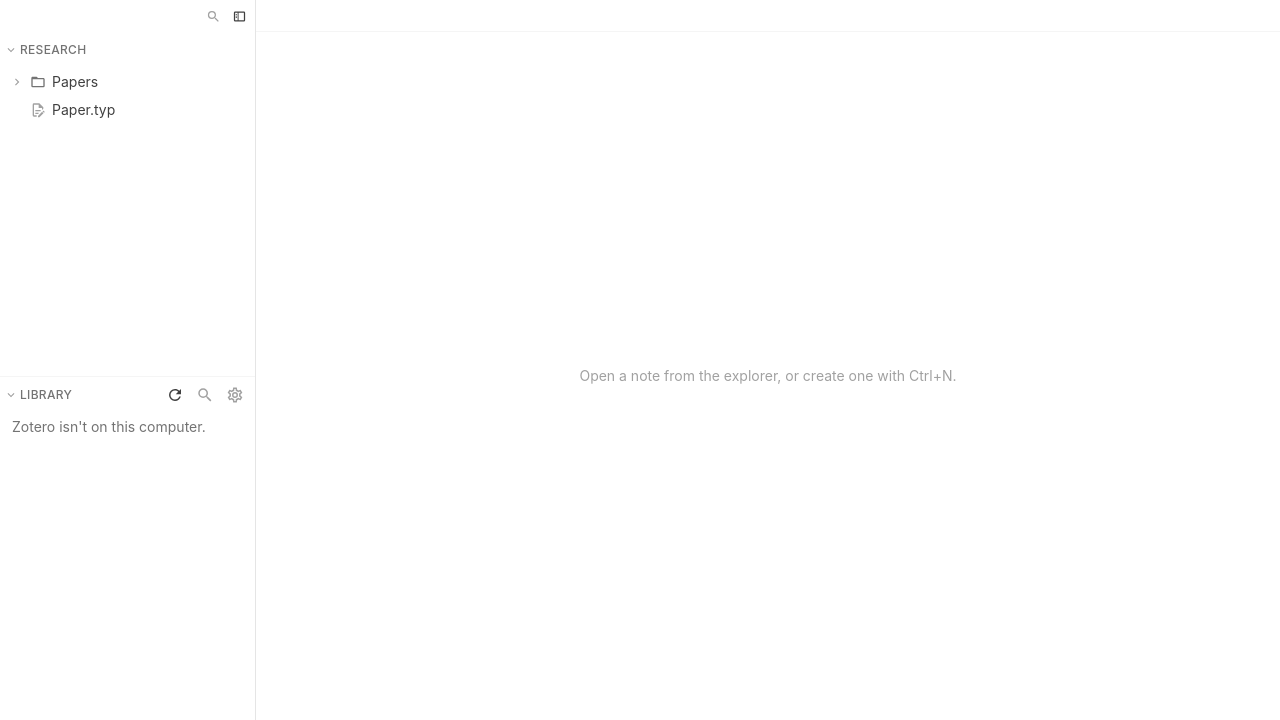
Scenario: The PDF reader › says why when the PDF can't be opened
This screenshot has width=1280, height=720.
Click the button "Papers" at (128, 82), box [6,68,249,96]
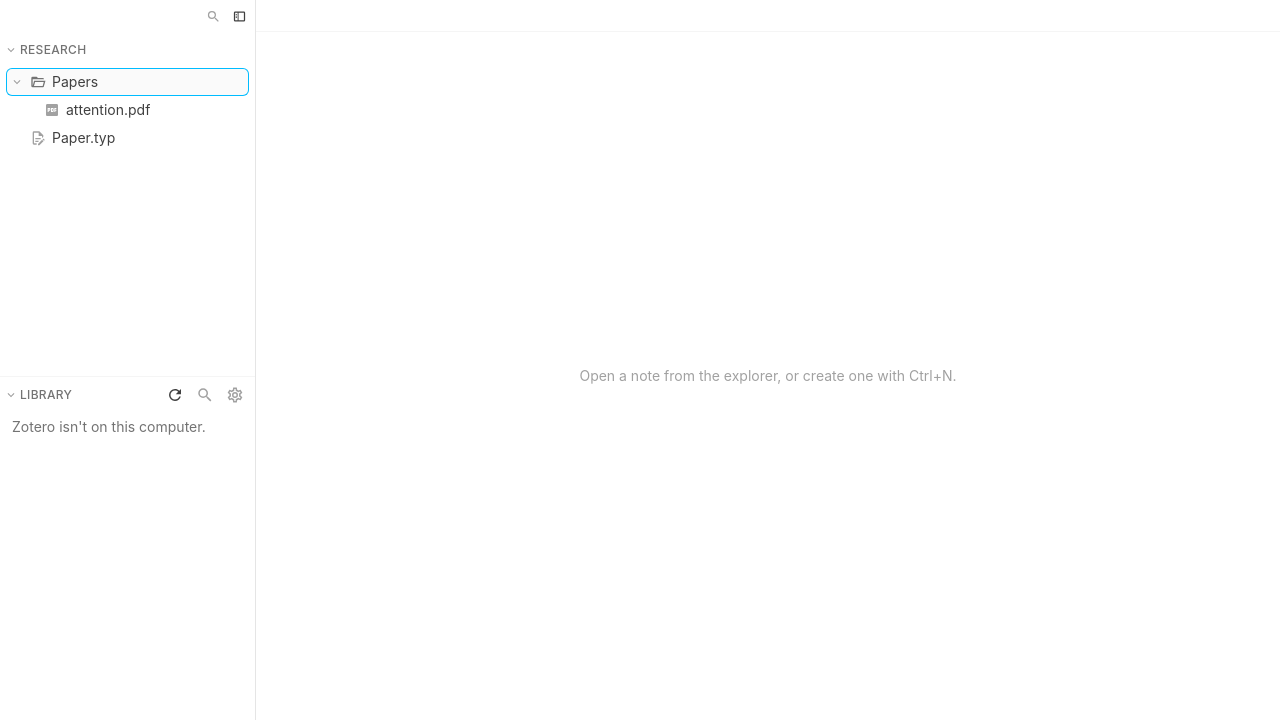
Click the button "attention.pdf" at (128, 110), box [6,96,249,124]
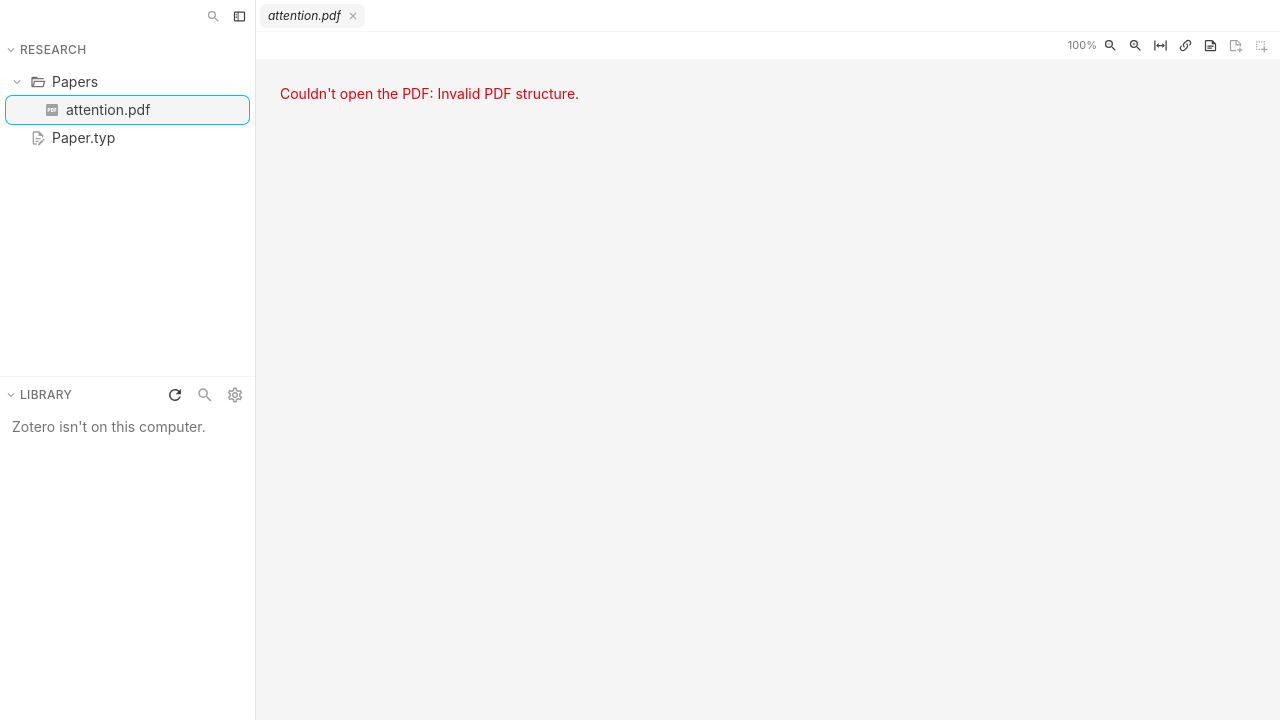
Now the message reads "Couldn't open the PDF: Invalid PDF structure.", box [280,85,579,102]
